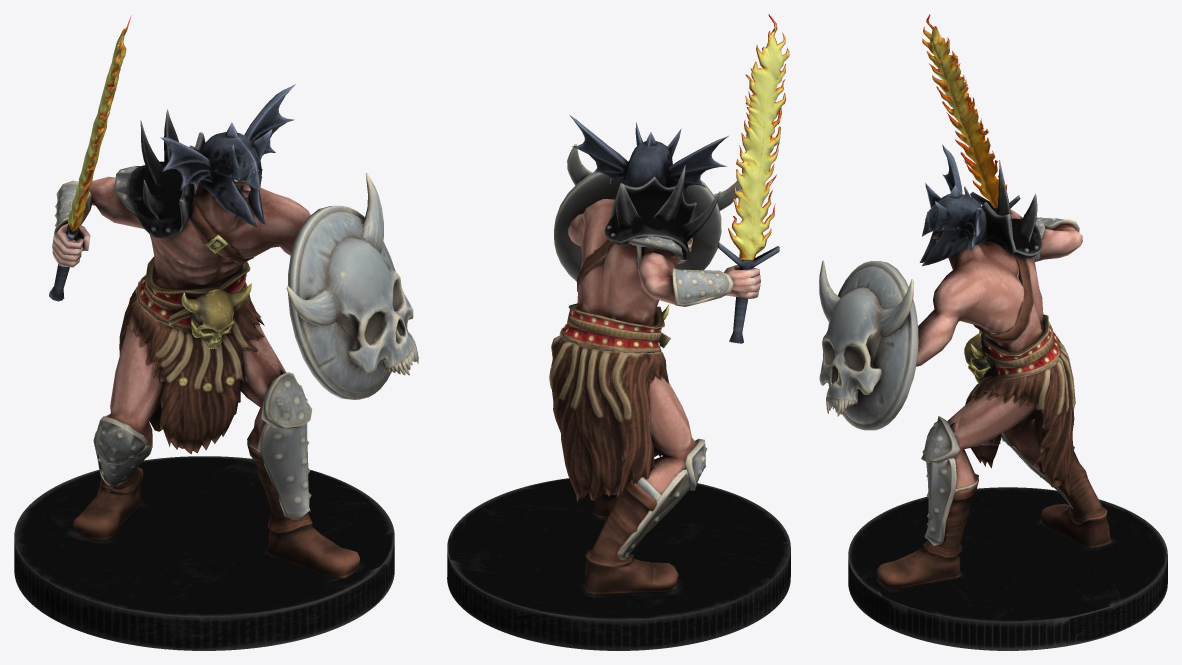
File: MZ4250 - Human Fighter (Warduke).glb
3 views of the same model, side by side, from view 1: azimuth 30°, elevation 25°; view 2: azimuth 150°, elevation 25°; view 3: azimuth 270°, elevation 25° (orthographic). The views are drawn at different scales.
Visible parts, largest first — view 1: base_low.001, body_low.001, thing_low.001, skull_low.001, shield_low.001, boot_low.001, helm_low.001, pauldron_low.001, sword_low.001, skull2_low.001; view 2: base_low.001, body_low.001, thing_low.001, sword_low.001, boot_low.001, pauldron_low.001, shield_low.001, helm_low.001, skull_low.001; view 3: base_low.001, body_low.001, skull_low.001, boot_low.001, shield_low.001, thing_low.001, sword_low.001, helm_low.001, pauldron_low.001, skull2_low.001.
Part boxes in pixels (x1,y1,x2,y2): base_low.001: [14, 456, 394, 650]; body_low.001: [52, 165, 312, 534]; thing_low.001: [110, 281, 264, 453]; skull_low.001: [286, 173, 418, 375]; shield_low.001: [288, 205, 395, 399]; boot_low.001: [73, 441, 360, 579]; helm_low.001: [160, 84, 295, 227]; pauldron_low.001: [127, 109, 205, 238]; sword_low.001: [49, 15, 131, 301]; skull2_low.001: [181, 283, 251, 349]; base_low.001: [447, 478, 790, 650]; body_low.001: [553, 199, 760, 563]; thing_low.001: [549, 335, 670, 502]; sword_low.001: [717, 14, 789, 343]; boot_low.001: [584, 480, 678, 595]; pauldron_low.001: [604, 165, 720, 260]; shield_low.001: [554, 160, 721, 281]; helm_low.001: [569, 115, 729, 193]; skull_low.001: [567, 144, 740, 210]; base_low.001: [848, 487, 1167, 650]; body_low.001: [899, 209, 1082, 578]; skull_low.001: [819, 260, 913, 416]; boot_low.001: [876, 445, 1111, 589]; shield_low.001: [838, 261, 918, 430]; thing_low.001: [965, 336, 1075, 495]; sword_low.001: [922, 14, 1020, 213]; helm_low.001: [919, 145, 987, 266]; pauldron_low.001: [964, 160, 1042, 258]; skull2_low.001: [964, 330, 993, 382].
Size of the model in its own units: 9.26 by 16.64 by 10.1.
Materials: 1 (1 with a texture image).
